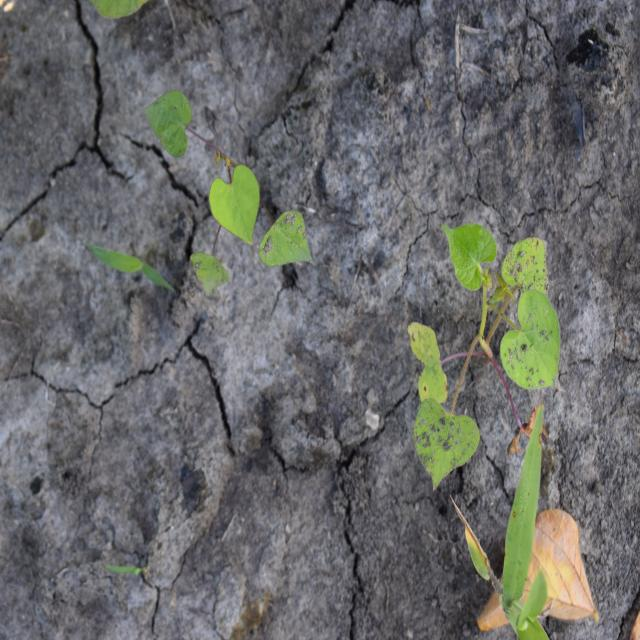MorningGlory: (406, 221, 566, 493), (139, 89, 316, 299)
